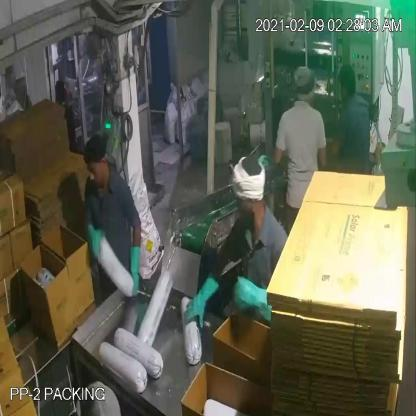glove: (230, 268, 278, 332), (186, 273, 218, 336), (121, 237, 145, 307), (80, 215, 107, 267)
